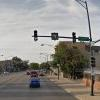Traffic light: (25, 27, 86, 52)
